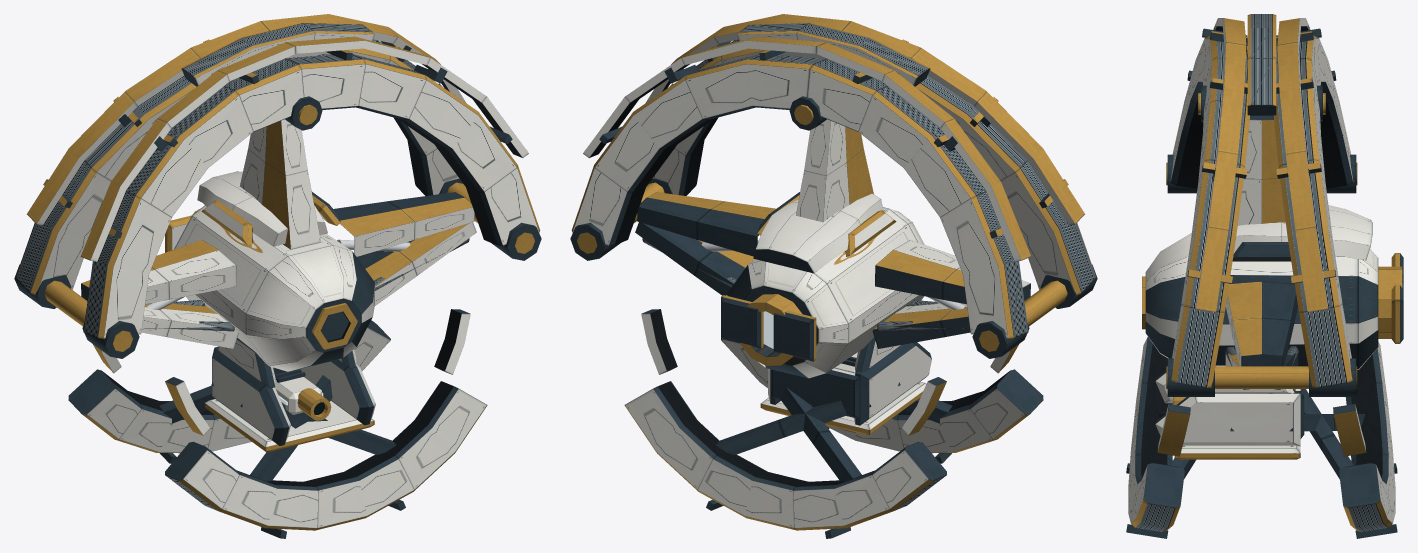
The model's file is cassini-europa-l10-laser.glb.
The picture shows the model from 3 angles, left to right: view 1: azimuth 30°, elevation 25°; view 2: azimuth 150°, elevation 25°; view 3: azimuth 270°, elevation 25°; orthographic projection. The views are drawn at different scales.
Parts seen in each view (by area): view 1: Drone; view 2: Drone; view 3: Drone.
Part boxes in pixels (x1,y1,x2,y2): Drone: (14, 14, 541, 538); Drone: (570, 14, 1097, 538); Drone: (1126, 14, 1403, 538).
Size of the model in its own units: 2.6 by 2.52 by 1.36.
Materials: 3 (3 with a texture image).
